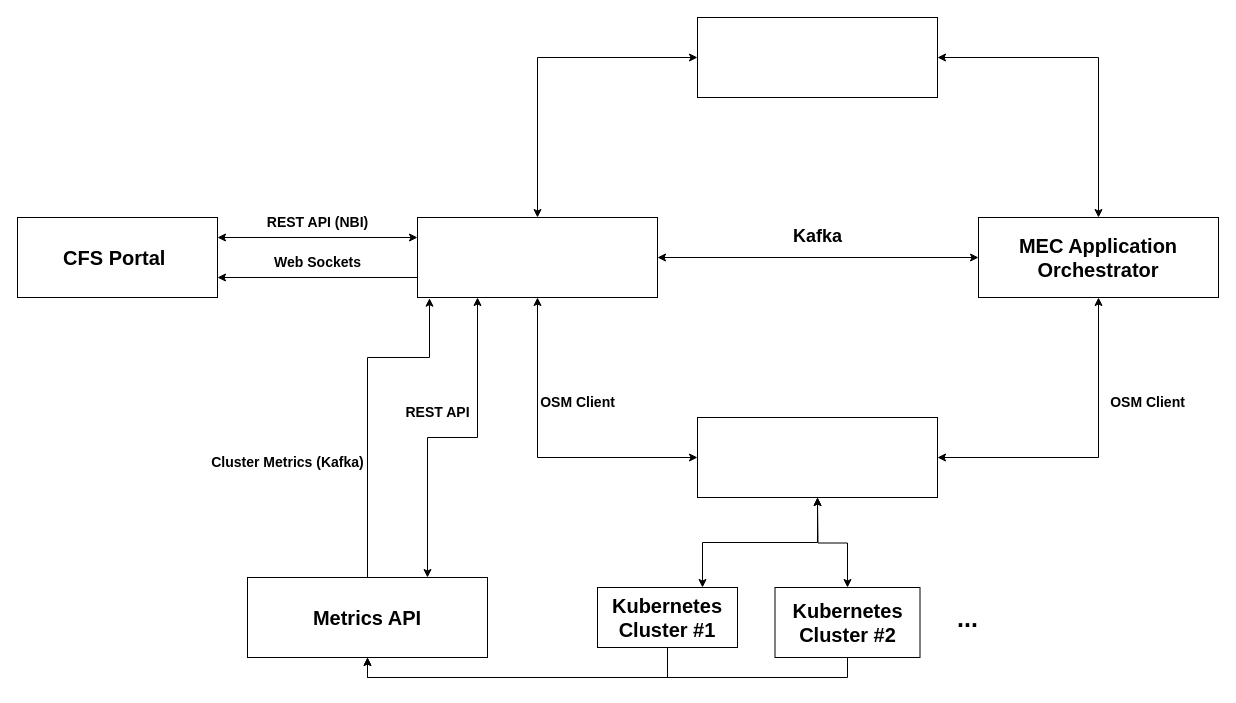
The diagram is 1236 pixels wide and 703 high, and some of its shapes have lost their labels. The centre of each missing label's shape, as x and y in pixels:
Mongo Database: [817,57]
Operations Support System: [537,257]
OSM: [817,457]
